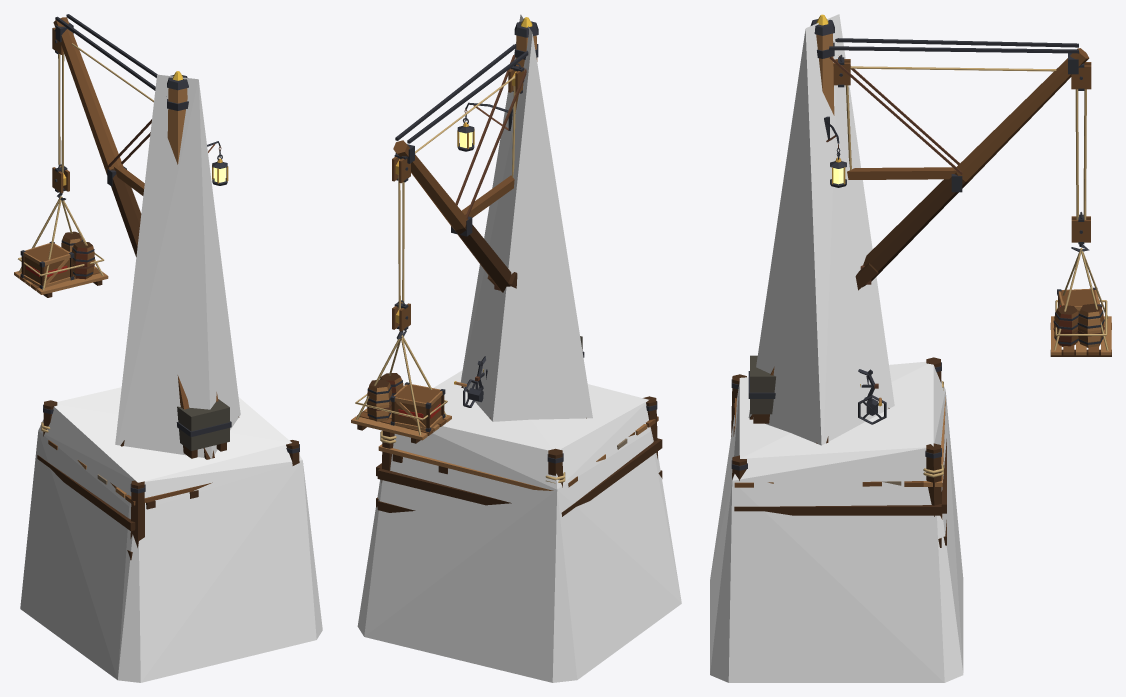
Rendered from harbour_cargo_crane_dock.glb.
3 views of the same model, side by side, from view 1: azimuth 30°, elevation 25°; view 2: azimuth 150°, elevation 25°; view 3: azimuth 270°, elevation 25° (orthographic). The views are drawn at different scales.
Visible parts, largest first — view 1: col_crane_base, col_crane_post, HarbourCargoCraneDock; view 2: col_crane_base, col_crane_post, HarbourCargoCraneDock; view 3: col_crane_base, col_crane_post, HarbourCargoCraneDock.
Part boxes in pixels (<box>): col_crane_base: <box>20,387,322,682</box>; col_crane_post: <box>115,74,240,458</box>; HarbourCargoCraneDock: <box>14,14,299,560</box>; col_crane_base: <box>357,370,681,682</box>; col_crane_post: <box>460,14,592,421</box>; HarbourCargoCraneDock: <box>351,17,662,516</box>; col_crane_base: <box>710,361,963,682</box>; col_crane_post: <box>748,14,894,445</box>; HarbourCargoCraneDock: <box>731,14,1111,547</box>.
Size of the model in its own units: 5.9 by 15.2 by 9.04.
